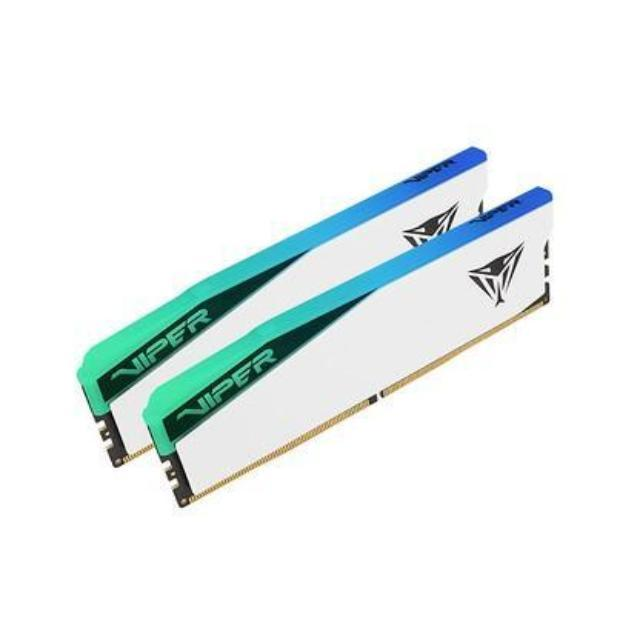RAM: (73, 144, 556, 522)
